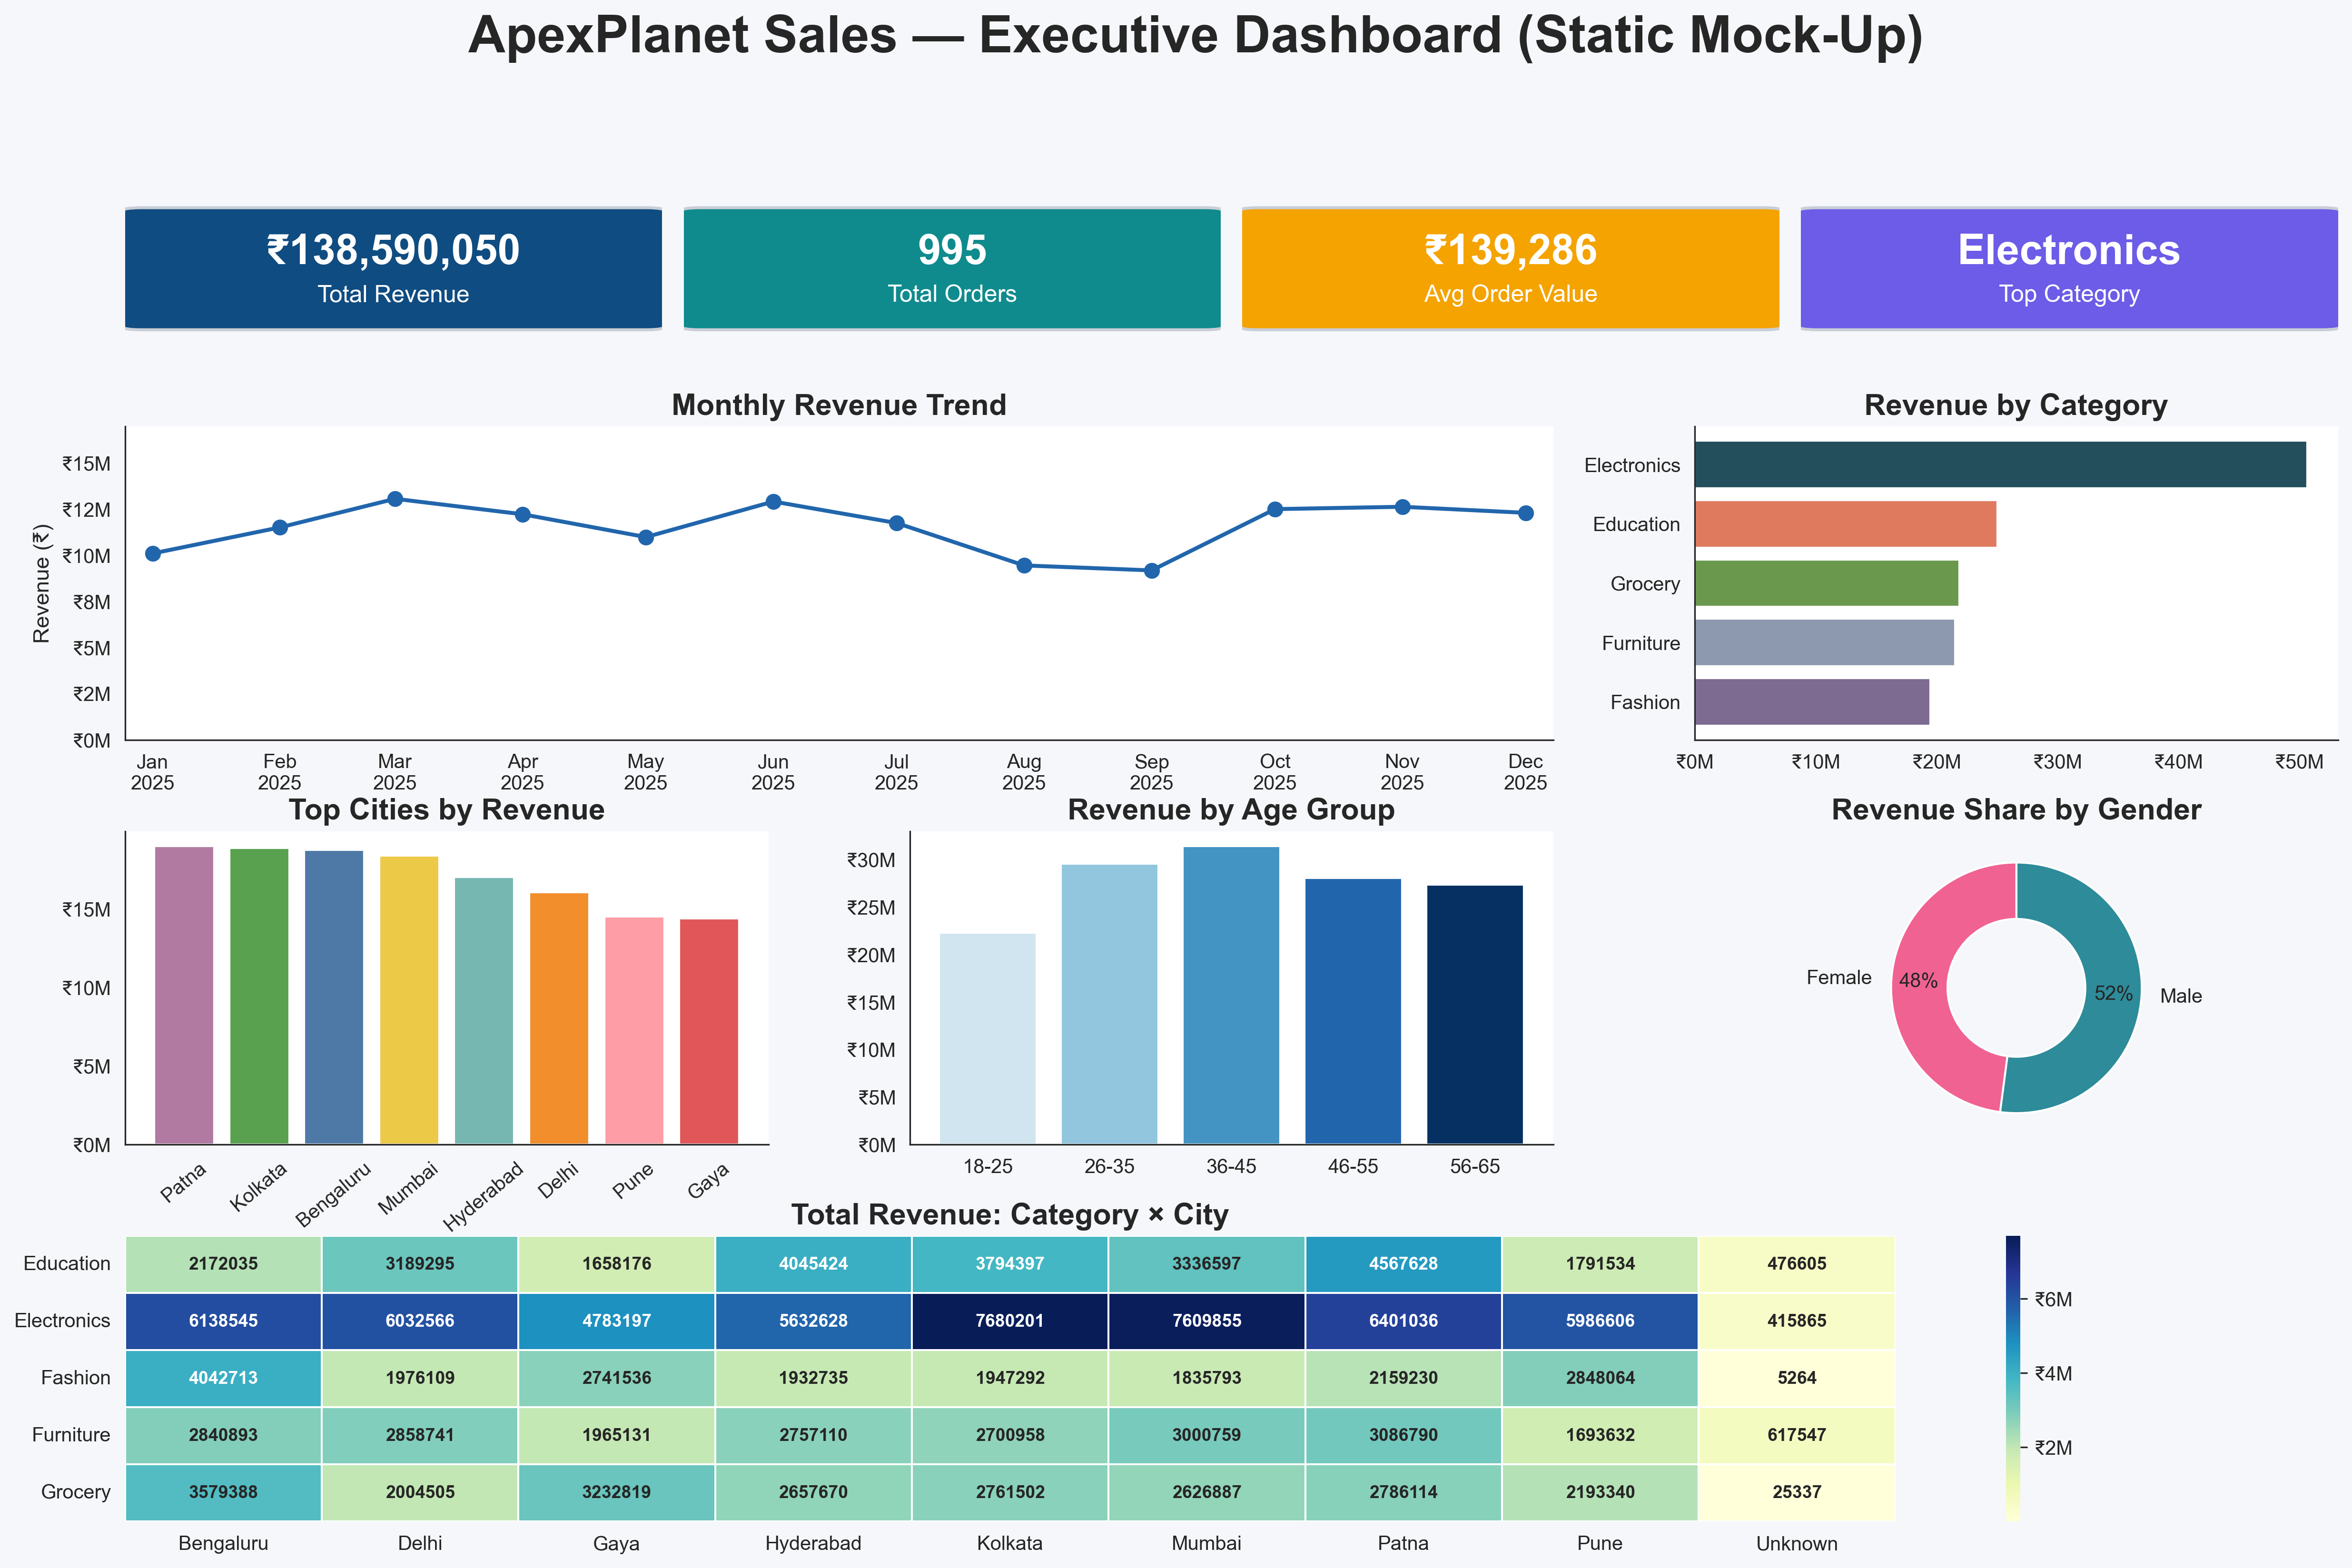

Layout of this report page (visuals, bound fields, positions):
{"tool":"powerbi","page":{"name":"Executive Overview","canvas":[1280,755],"ordinal":0},"visuals":[{"type":"image","box":[0,0,165,755],"z":0},{"type":"shape","box":[170.6,80.7,288.4,130],"z":1000},{"type":"shape","box":[712.5,205,556.2,245],"z":1000,"group":"g4"},{"type":"image","box":[180,90,271,113],"z":2000},{"type":"shape","box":[449.7,79.4,273.8,130],"z":3000},{"type":"shape","box":[713,80,275.1,130],"z":4000},{"type":"shape","box":[977.5,79.9,290.9,129.8],"z":5000},{"type":"shape","box":[1191,100,54.8,54.8],"z":5500,"group":"g3"},{"type":"textbox","box":[340,10,220.2,53.6],"z":6000},{"type":"shape","box":[170,205,550,245],"z":6000,"group":"g4"},{"type":"cardVisual","fields":{"Data":["cleaned_sales-data.Total Revenue"]},"box":[172,110,198.8,70.2],"z":7000},{"type":"shape","box":[170,440,550,305],"z":7000,"group":"g4"},{"type":"cardVisual","fields":{"Data":["cleaned_sales-data.Top Category"]},"box":[984,110,210,70.2],"z":8000},{"type":"shape","box":[712.5,441.2,556.2,303.8],"z":8000,"group":"g4"},{"type":"cardVisual","fields":{"Data":["cleaned_sales-data.Total Orders"]},"box":[453,110,135.7,70.2],"z":9000},{"type":"cardVisual","fields":{"Data":["cleaned_sales-data.AOV"]},"box":[715,110,159.5,70.2],"z":10000},{"type":"image","box":[37,25.1,95.2,90.5],"z":11000},{"type":"lineStackedColumnComboChart","title":"Revenue Trend","fields":{"Category":["cleaned_sales-data.Order_Month_Label"],"Y":["Sum(cleaned_sales-data.Total_Sales)"],"Y2":["Count(cleaned_sales-data.Order_ID)"]},"box":[186.2,220,520,215],"z":11000,"group":"g4"},{"type":"treemap","title":"Revenue by Category","fields":{"Group":["cleaned_sales-data.Category"],"Values":["Sum(cleaned_sales-data.Total_Sales)"]},"box":[727,220,527,215],"z":12000,"group":"g4"},{"type":"slicer","fields":{"Values":["cleaned_sales-data.City"]},"box":[10,272.1,145,68.8],"z":12000},{"type":"slicer","fields":{"Values":["cleaned_sales-data.Gender"]},"box":[10,340.8,144.8,83.6],"z":13000},{"type":"barChart","title":"Revenue by City","fields":{"Category":["cleaned_sales-data.City"],"Series":["cleaned_sales-data.Category"],"Y":["Sum(cleaned_sales-data.Total_Sales)"]},"box":[185.8,454.9,520,277.5],"z":13000,"group":"g4"},{"type":"advancedSlicerVisual","fields":{"Values":["cleaned_sales-data.Age_Group"]},"box":[12.5,424.4,140,146.2],"z":14000},{"type":"pivotTable","title":"AOV Density — City × Category","fields":{"Columns":["cleaned_sales-data.Category"],"Rows":["cleaned_sales-data.City"],"Values":["cleaned_sales-data.AOV"]},"box":[720.2,455.3,534.5,277.4],"z":14000,"group":"g4"},{"type":"textbox","box":[192,100,125,33.3],"z":15000},{"type":"textbox","box":[469,100,115,33],"z":16000},{"type":"image","box":[1197,105,42,44],"z":16000,"group":"g3"},{"type":"textbox","box":[1000,100,120,33.3],"z":17000},{"type":"textbox","box":[735,100.5,140,33],"z":18000},{"type":"slicer","fields":{"Values":["cleaned_sales-data.Order_Month_Name"]},"box":[10,203.5,145,68.8],"z":19000},{"type":"image","box":[1069.8,41.2,27,24],"z":20000},{"type":"textbox","box":[180,50,185.8,35],"z":21000},{"type":"actionButton","box":[365.1,50.3,316.1,35],"z":22000},{"type":"textbox","box":[1088.6,37,163.4,32.9],"z":23000},{"type":"image","box":[19.8,112.4,131,45],"z":24000},{"type":"image","box":[379.6,100,54,54],"z":25000},{"type":"image","box":[180,17,175,38.1],"z":26000},{"type":"image","box":[42.4,607.9,79.8,79.8],"z":27000},{"type":"group","id":"g1","title":"Group 1","box":[644,100,54.2,54.2],"z":28000},{"type":"group","id":"g2","title":"Group 2","box":[909,100,55.6,55.6],"z":29000},{"type":"group","id":"g3","title":"Group 3","box":[1191,100,54.8,54.8],"z":30000},{"type":"group","id":"g4","title":"Group 4","box":[170,205,1098.8,540],"z":31000},{"type":"cardVisual","fields":{"Data":["cleaned_sales-data.MoM Revenue Label"]},"box":[198,157.3,165,30],"z":32000},{"type":"cardVisual","fields":{"Data":["cleaned_sales-data.MoM Orders Label"]},"box":[479,157.3,165,30],"z":33000},{"type":"shape","box":[644,100,54.8,54.8],"z":33500,"group":"g1"},{"type":"shape","box":[909,100,54.8,54.8],"z":34000,"group":"g2"},{"type":"cardVisual","fields":{"Data":["cleaned_sales-data.MoM AOV Label"]},"box":[745.3,157.3,165,30],"z":34000},{"type":"textbox","box":[376,215,140,29],"z":34001},{"type":"image","box":[916,103.5,44,49],"z":36000,"group":"g2"},{"type":"image","box":[650.5,110.8,42,38],"z":37000,"group":"g1"}]}

Visuals, with their boxes on the page's 1280x755 design canvas (x1, y1, x2, y2). These are canvas units, not pixel positions in the 2352x1568 screenshot, which may show the page scaled, cropped or inside an application window:
image: box(0, 0, 165, 755)
shape: box(171, 81, 459, 211)
shape: box(712, 205, 1269, 450)
image: box(180, 90, 451, 203)
shape: box(450, 79, 724, 209)
shape: box(713, 80, 988, 210)
shape: box(978, 80, 1268, 210)
shape: box(1191, 100, 1246, 155)
textbox: box(340, 10, 560, 64)
shape: box(170, 205, 720, 450)
cardVisual - cleaned_sales-data.Total Revenue: box(172, 110, 371, 180)
shape: box(170, 440, 720, 745)
cardVisual - cleaned_sales-data.Top Category: box(984, 110, 1194, 180)
shape: box(712, 441, 1269, 745)
cardVisual - cleaned_sales-data.Total Orders: box(453, 110, 589, 180)
cardVisual - cleaned_sales-data.AOV: box(715, 110, 874, 180)
image: box(37, 25, 132, 116)
"Revenue Trend" lineStackedColumnComboChart: box(186, 220, 706, 435)
"Revenue by Category" treemap: box(727, 220, 1254, 435)
slicer - cleaned_sales-data.City: box(10, 272, 155, 341)
slicer - cleaned_sales-data.Gender: box(10, 341, 155, 424)
"Revenue by City" barChart: box(186, 455, 706, 732)
advancedSlicerVisual - cleaned_sales-data.Age_Group: box(12, 424, 152, 571)
"AOV Density — City × Category" pivotTable: box(720, 455, 1255, 733)
textbox: box(192, 100, 317, 133)
textbox: box(469, 100, 584, 133)
image: box(1197, 105, 1239, 149)
textbox: box(1000, 100, 1120, 133)
textbox: box(735, 100, 875, 134)
slicer - cleaned_sales-data.Order_Month_Name: box(10, 204, 155, 272)
image: box(1070, 41, 1097, 65)
textbox: box(180, 50, 366, 85)
actionButton: box(365, 50, 681, 85)
textbox: box(1089, 37, 1252, 70)
image: box(20, 112, 151, 157)
image: box(380, 100, 434, 154)
image: box(180, 17, 355, 55)
image: box(42, 608, 122, 688)
"Group 1" group: box(644, 100, 698, 154)
"Group 2" group: box(909, 100, 965, 156)
"Group 3" group: box(1191, 100, 1246, 155)
"Group 4" group: box(170, 205, 1269, 745)
cardVisual - cleaned_sales-data.MoM Revenue Label: box(198, 157, 363, 187)
cardVisual - cleaned_sales-data.MoM Orders Label: box(479, 157, 644, 187)
shape: box(644, 100, 699, 155)
shape: box(909, 100, 964, 155)
cardVisual - cleaned_sales-data.MoM AOV Label: box(745, 157, 910, 187)
textbox: box(376, 215, 516, 244)
image: box(916, 104, 960, 152)
image: box(650, 111, 692, 149)
